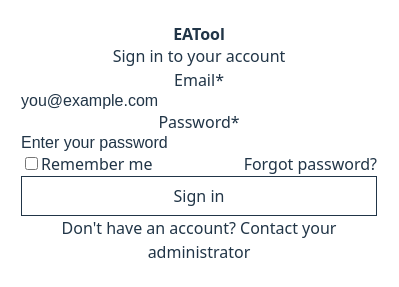
LoginPage › should show validation error for short password
The image size is (399, 287).
Type "test@example.com" into the field with placeholder "you@example.com" at (199, 101), box [21,92,377,110]
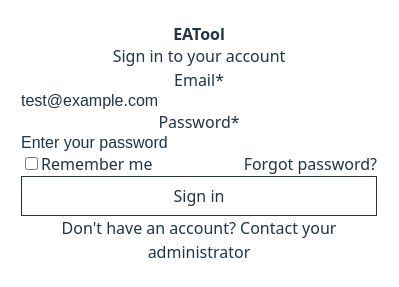
Type "short" into the password field with placeholder "Enter your password" at (199, 143), box [21,134,377,152]
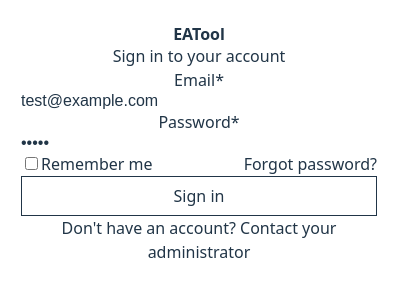
Click the button "Sign in" at (199, 196), box [21,176,377,216]
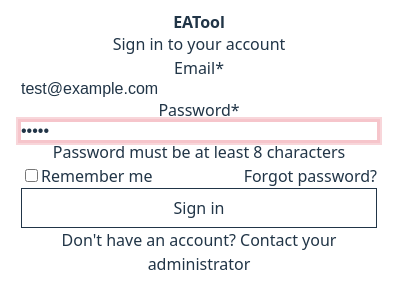
Now the text "Password must be at least 8 characters" is shown, box [53,141,345,163]
